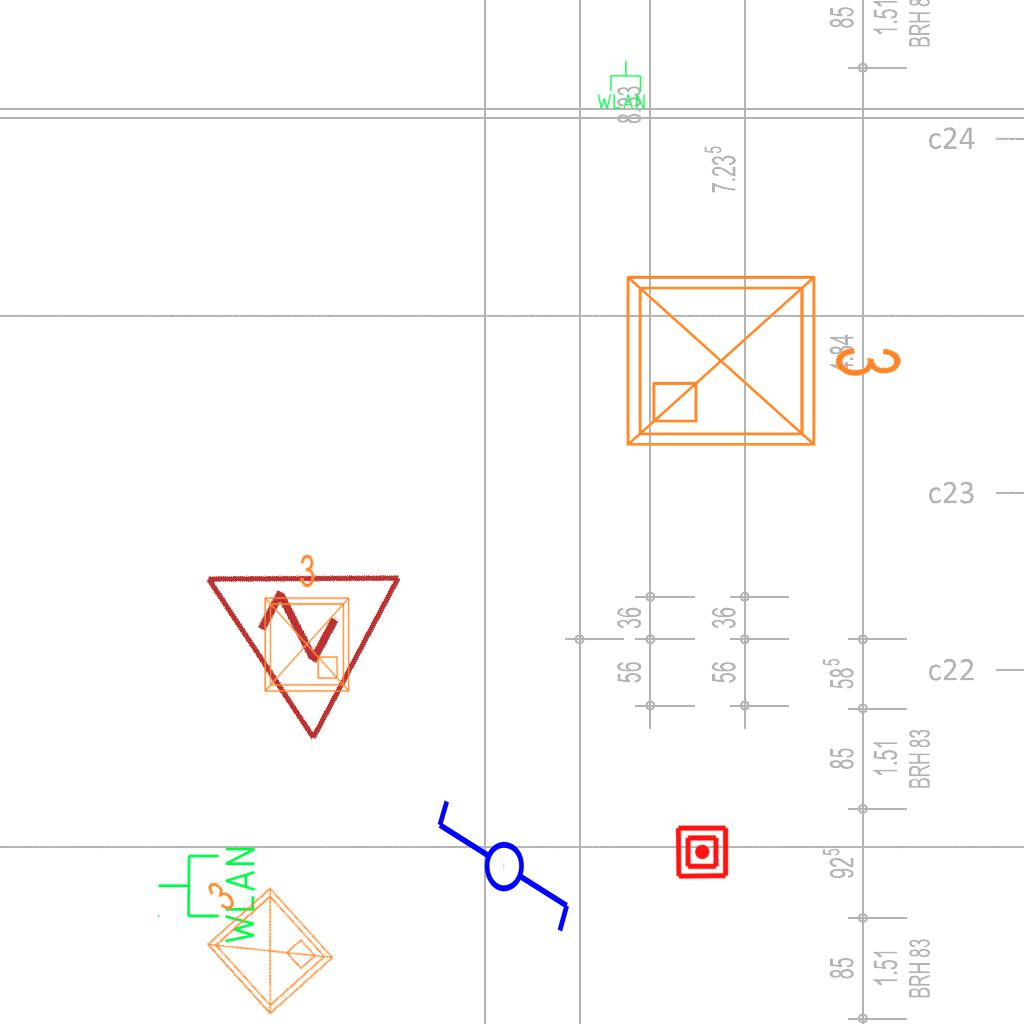Einbaudownlights_LED_Konferenzraeume: (612, 253, 912, 461), (166, 846, 344, 1024), (253, 549, 357, 699)
NAM-Nichtautomatischer_Melder: (674, 824, 730, 880)
WLAN: (155, 843, 259, 948), (595, 59, 647, 111)
Wechselschalter: (430, 796, 574, 953)
Zimmersignalleuchte: (147, 487, 417, 755)
